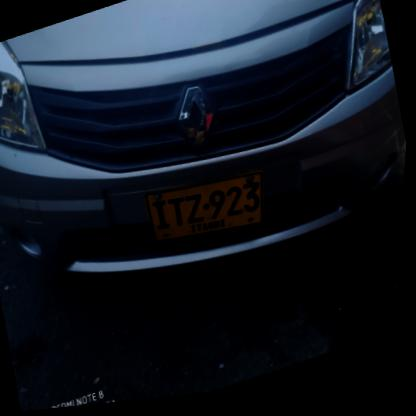placa: (137, 154, 281, 269)
